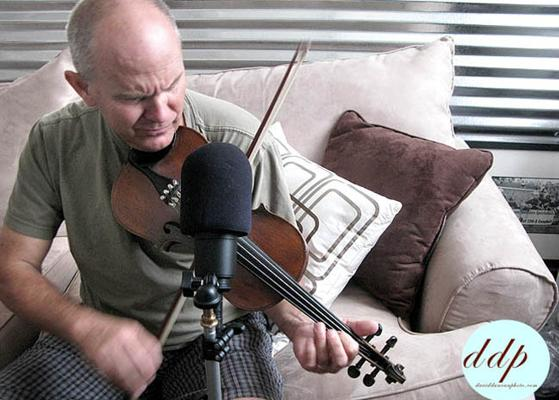person: (1, 3, 382, 400)
